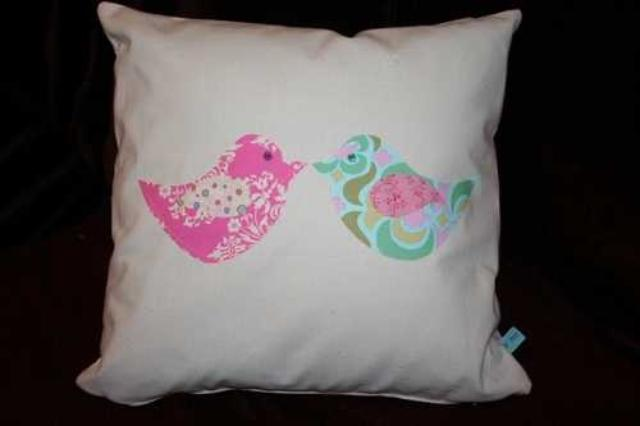pillow: (74, 0, 532, 408)
